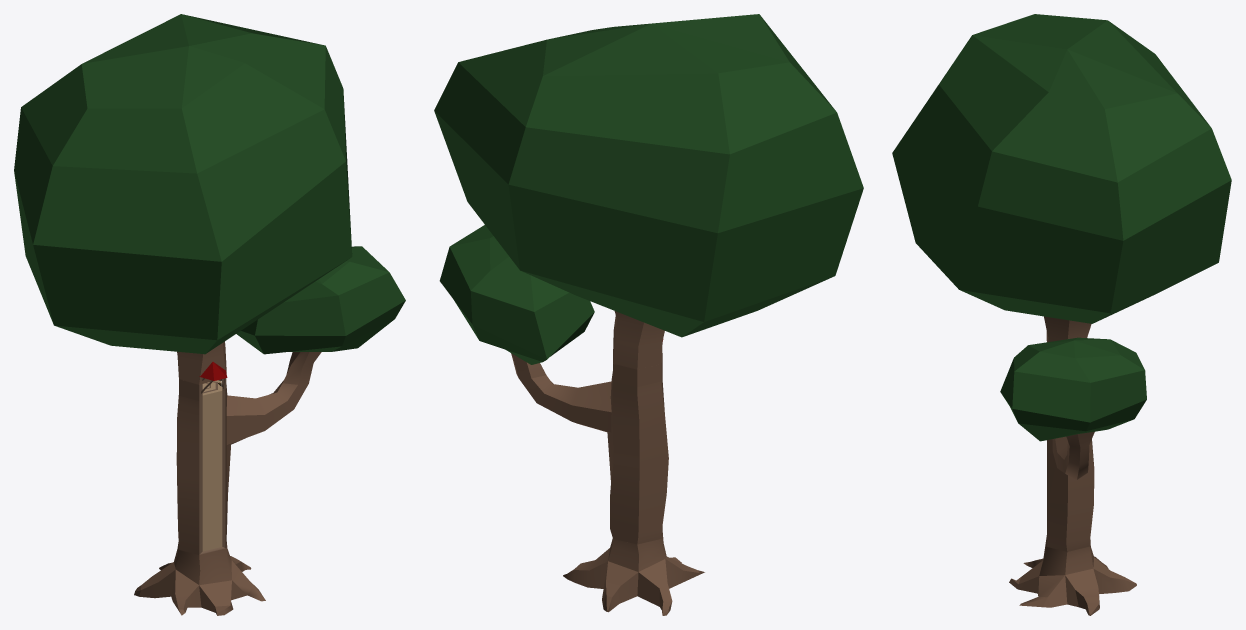
The model's file is arbre_v08.fbx.
3 views of the same model, side by side, from view 1: azimuth 30°, elevation 25°; view 2: azimuth 150°, elevation 25°; view 3: azimuth 270°, elevation 25° (orthographic). The views are drawn at different scales.
Visible parts, largest first — view 1: feuillage2, feuillage1, racines, pCylinder2, branche1, couche3_dedans, couche2, branche2; view 2: feuillage2, feuillage1, pCylinder2, racines, branche1, branche2, pasted__pCylinder2; view 3: feuillage2, feuillage1, racines, pCylinder2, branche1, branche2.
Boxes of the visible parts, left/top/right/bottom form: feuillage2: left=14, top=14, right=352, bottom=354; feuillage1: left=236, top=246, right=405, bottom=354; racines: left=134, top=542, right=265, bottom=615; pCylinder2: left=176, top=385, right=230, bottom=554; branche1: left=226, top=352, right=321, bottom=445; couche3_dedans: left=202, top=380, right=222, bottom=551; couche2: left=199, top=378, right=226, bottom=554; branche2: left=177, top=341, right=226, bottom=384; feuillage2: left=434, top=14, right=863, bottom=337; feuillage1: left=439, top=225, right=594, bottom=364; pCylinder2: left=607, top=371, right=668, bottom=544; racines: left=563, top=529, right=704, bottom=615; branche1: left=511, top=353, right=611, bottom=432; branche2: left=613, top=311, right=664, bottom=369; pasted__pCylinder2: left=613, top=357, right=662, bottom=387; feuillage2: left=892, top=14, right=1231, bottom=323; feuillage1: left=1000, top=337, right=1146, bottom=441; racines: left=1009, top=535, right=1136, bottom=615; pCylinder2: left=1047, top=439, right=1094, bottom=551; branche1: left=1052, top=431, right=1094, bottom=479; branche2: left=1044, top=316, right=1091, bottom=342.
Bounding box in the file's own units: 19.35 × 27.25 × 15.61.
